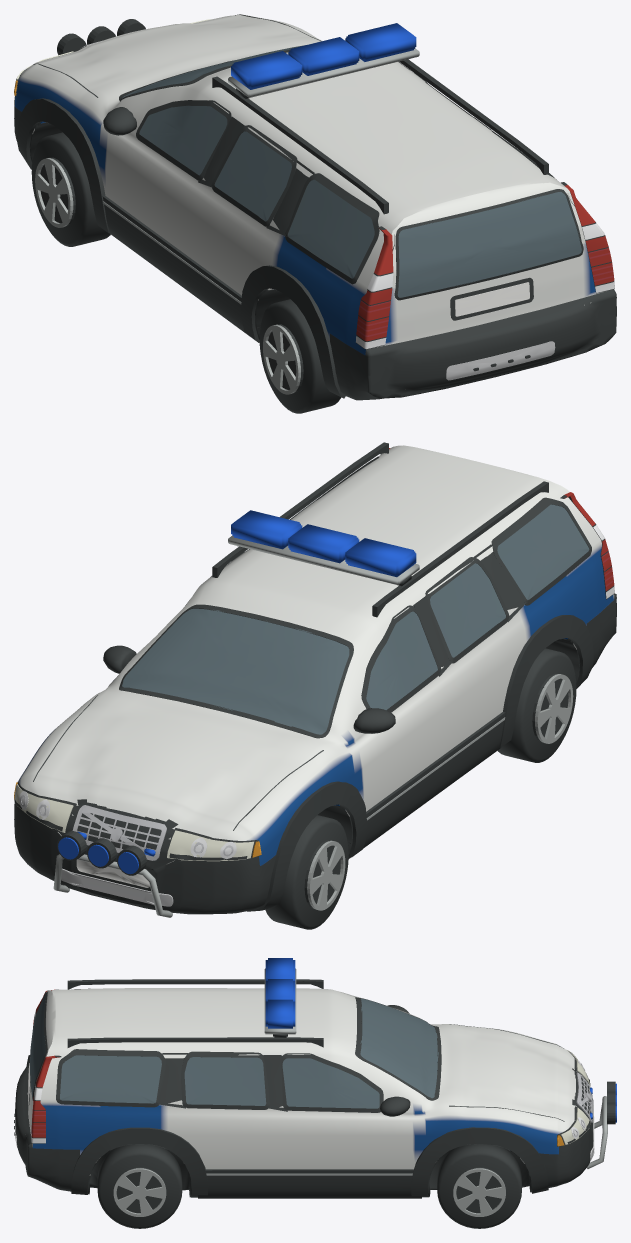
The model's file is xc70-police.glb.
3 views of the same model, one above another, from view 1: azimuth 30°, elevation 25°; view 2: azimuth 150°, elevation 25°; view 3: azimuth 270°, elevation 25° (orthographic). The views are drawn at different scales.
Visible parts, largest first — view 1: body, parts_charcoal_plastic_rubber, glass_envelope, wheel_rl, wheel_fl, parts_tail_lamp_red, parts_satin_alloy, lamp_blue_module, lamp_blue_module.001, lamp_blue_module.002, trim_spokes_fl, trim_spokes_rl (+6 smaller); view 2: body, parts_charcoal_plastic_rubber, glass_envelope, wheel_fl, wheel_rl, parts_satin_alloy, parts_grille_chrome, parts_headlamp_ivory, lamp_blue_module, lamp_blue_module.001, lamp_blue_module.002, trim_spokes_fl (+7 smaller); view 3: body, parts_charcoal_plastic_rubber, glass_envelope, wheel_fr, wheel_rr, parts_satin_alloy, trim_spokes_fr, trim_spokes_rr, lamp_blue_module.002, trim_rim_fr, trim_rim_rr, parts_tail_lamp_red (+4 smaller).
Part boxes in pixels (x1,y1,x2,y2): body: (14,14,602,355); parts_charcoal_plastic_rubber: (14,19,616,400); glass_envelope: (122,45,581,297); wheel_rl: (259,299,341,413); wheel_fl: (31,132,110,246); parts_tail_lamp_red: (356,184,614,341); parts_satin_alloy: (103,48,419,304); lamp_blue_module: (231,51,302,89); lamp_blue_module.001: (288,37,359,75); lamp_blue_module.002: (345,23,416,61); trim_spokes_fl: (35,158,73,227); trim_spokes_rl: (263,324,300,394); body: (18,445,614,865); parts_charcoal_plastic_rubber: (14,442,616,914); glass_envelope: (122,504,589,734); wheel_fl: (265,815,348,929); wheel_rl: (497,648,576,762); parts_satin_alloy: (53,536,505,917); parts_grille_chrome: (20,795,233,860); parts_headlamp_ivory: (14,784,253,861); lamp_blue_module: (345,538,416,577); lamp_blue_module.001: (288,524,359,563); lamp_blue_module.002: (231,510,302,549); trim_spokes_fl: (307,840,345,910); body: (27,988,576,1175); parts_charcoal_plastic_rubber: (14,979,615,1198); glass_envelope: (30,994,438,1108); wheel_fr: (437,1144,521,1228); wheel_rr: (97,1144,182,1228); parts_satin_alloy: (206,968,607,1175); trim_spokes_fr: (453,1168,505,1216); trim_spokes_rr: (113,1168,166,1216); lamp_blue_module.002: (265,999,295,1028); trim_rim_fr: (454,1167,505,1213); trim_rim_rr: (114,1167,165,1213); parts_tail_lamp_red: (31,989,59,1137).
Bounding box in the file's own units: 2.01 × 1.74 × 4.91.
